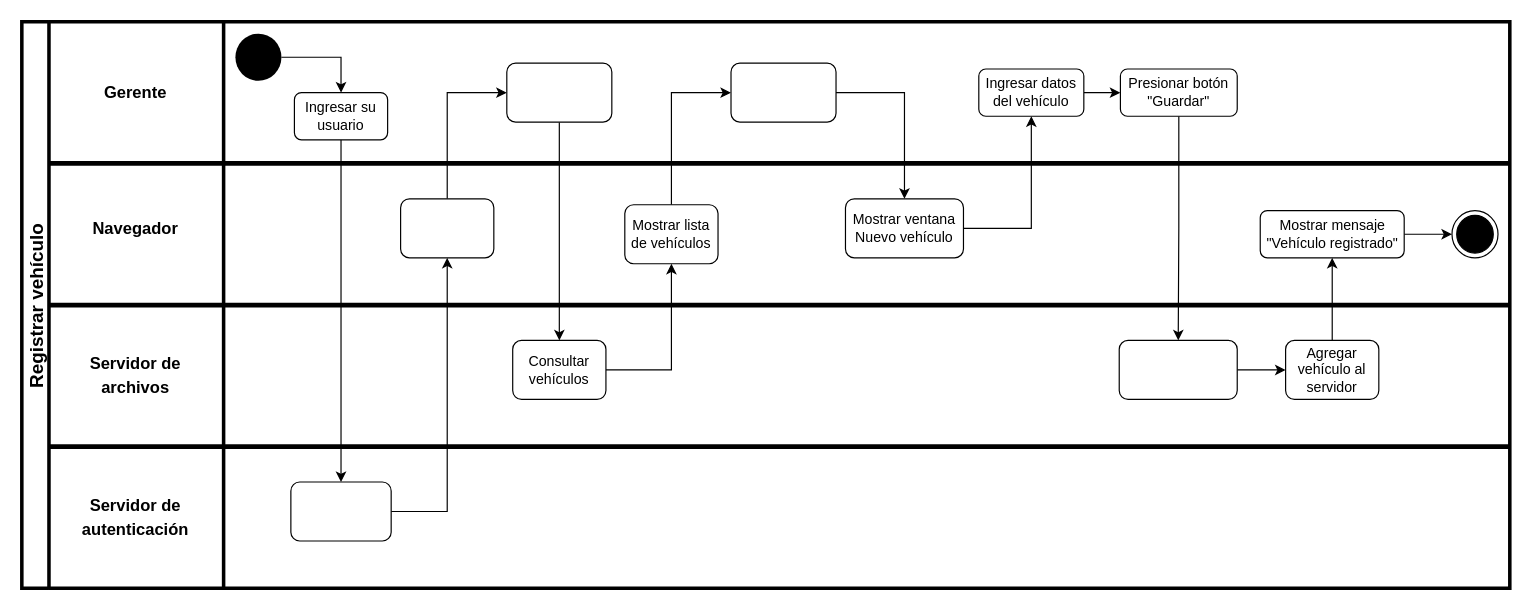
The diagram is 1534 pixels wide and 611 high, and some of its shapes have lost their labels. The shapes that lost their labels are listed below. From the top down, each one's centre as x and y in pixels, then its label:
point 559,92: Seleccionar la ventana de vehículos
point 783,92: Presionar botón "Nuevo"
point 446,228: Mostrar la ventana del gerente
point 1177,369: Validar datos de vehículo
point 340,511: Autenticar los permisos de usuario
